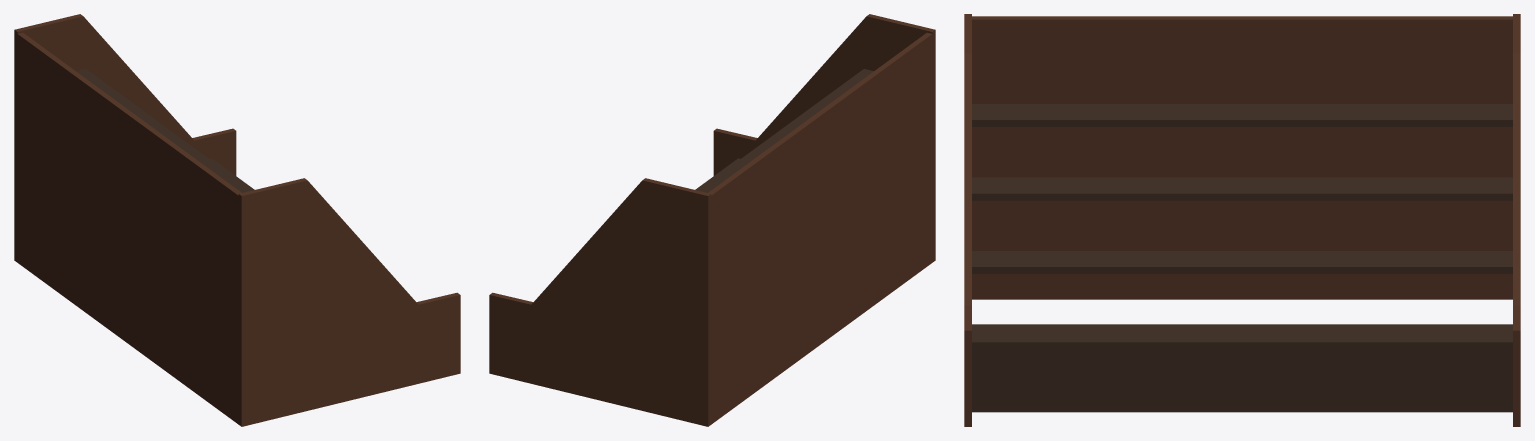
Rendered from 射的台.fbx.
3 views of the same model, side by side, from view 1: azimuth 30°, elevation 25°; view 2: azimuth 150°, elevation 25°; view 3: azimuth 270°, elevation 25° (orthographic). The views are drawn at different scales.
Visible parts, largest first — view 1: Cube.005, 立方体.001, 立方体, Cube.004; view 2: Cube.005, 立方体, 立方体.001, Cube.004; view 3: Cube.005, Cube, Cube.003, Cube.002, Cube.004, Cube.001, 立方体, 立方体.001.
Part boxes in pixels (left/top/right/bottom): Cube.005: left=17, top=32, right=241, bottom=424; 立方体.001: left=238, top=178, right=460, bottom=426; 立方体: left=14, top=14, right=236, bottom=262; Cube.004: left=76, top=69, right=251, bottom=192; Cube.005: left=708, top=32, right=932, bottom=424; 立方体: left=489, top=178, right=711, bottom=426; 立方体.001: left=713, top=14, right=935, bottom=262; Cube.004: left=698, top=69, right=873, bottom=192; Cube.005: left=972, top=16, right=1512, bottom=299; Cube: left=972, top=339, right=1512, bottom=412; Cube.003: left=972, top=177, right=1512, bottom=200; Cube.002: left=972, top=251, right=1512, bottom=273; Cube.004: left=972, top=104, right=1512, bottom=126; Cube.001: left=972, top=324, right=1512, bottom=340; 立方体: left=1513, top=14, right=1520, bottom=426; 立方体.001: left=964, top=14, right=971, bottom=426.
Bounding box in the file's own units: 800 × 807 × 1440.
